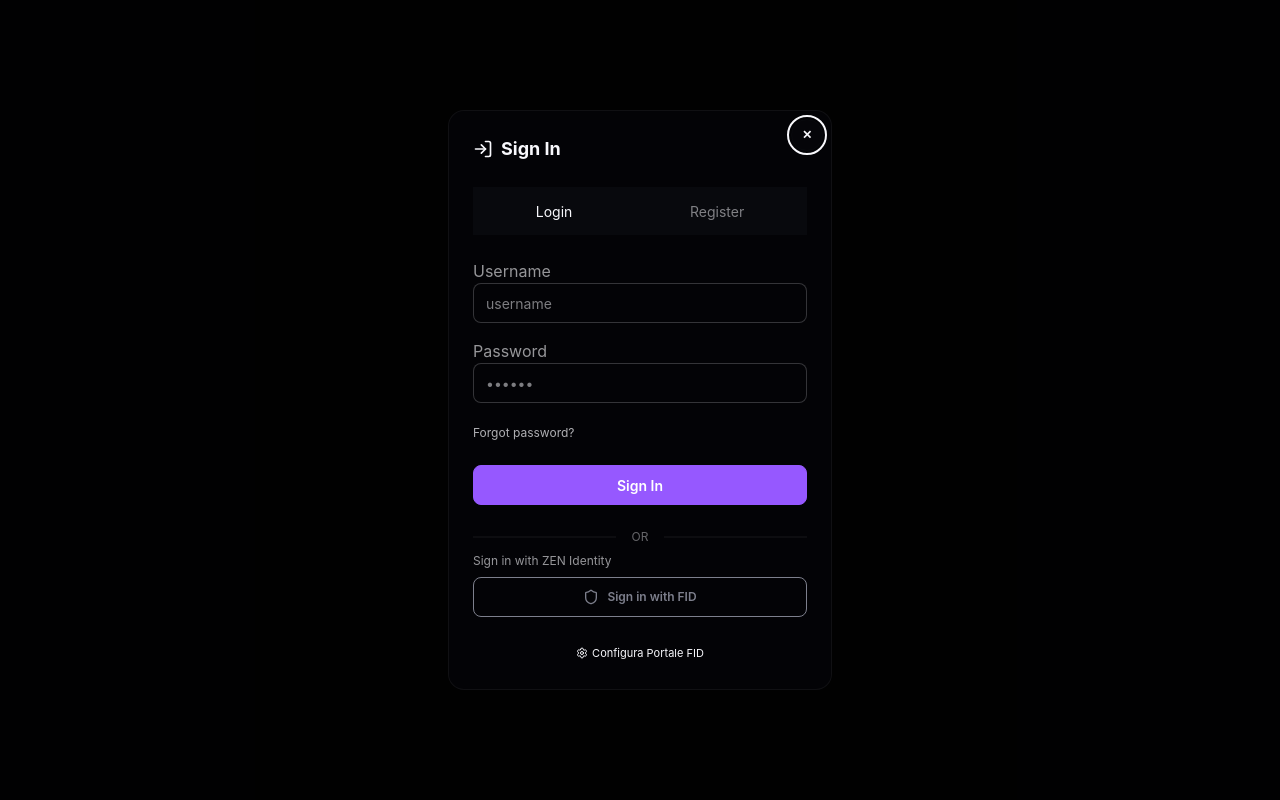
Test case: AuthModal › shows error when passwords do not match on register
The width and height of the screenshot is (1280, 800).
Expected: the field labelled "Username" is shown, [473,283,807,323]
Click the tab "Register": (717, 211) [631,191,803,231]
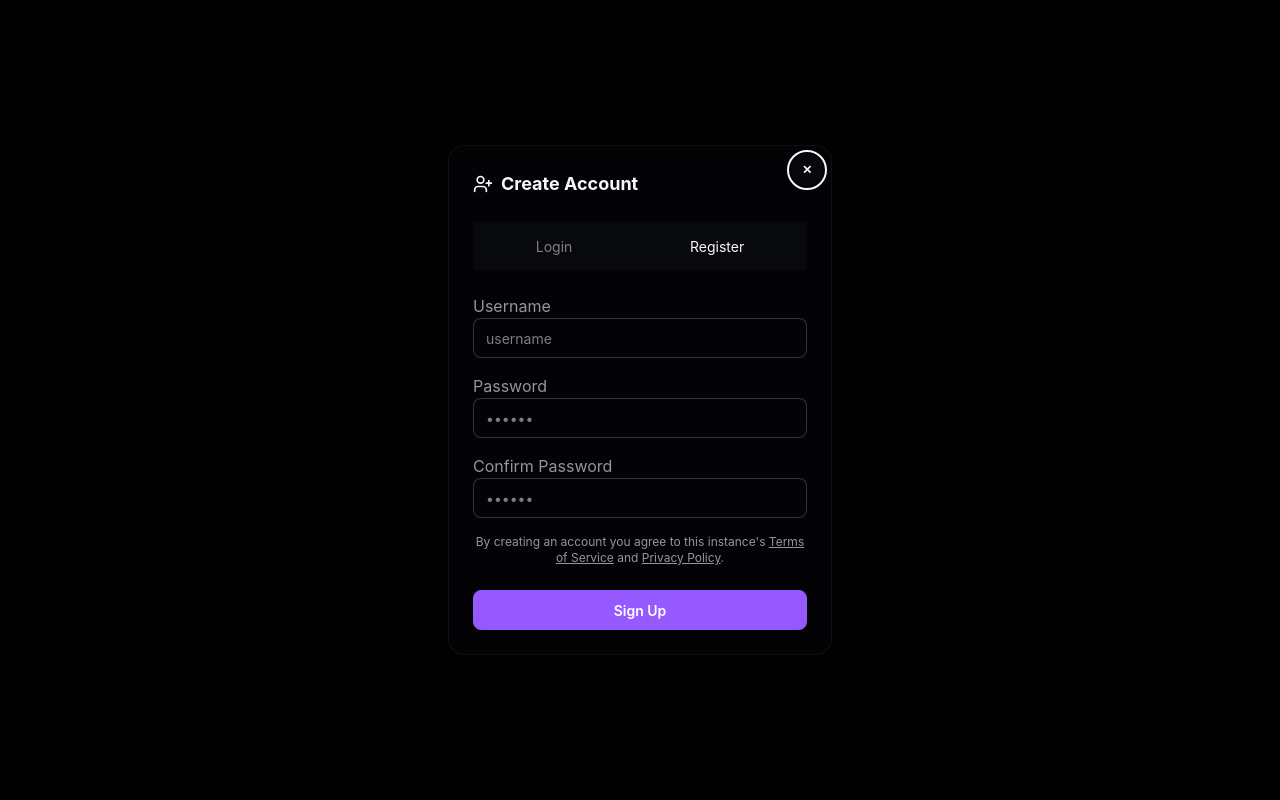
Now the button "Sign Up" is shown, box [473,590,807,630]
In the field labelled "Username": (640, 338) [473,318,807,358], type "newuser"
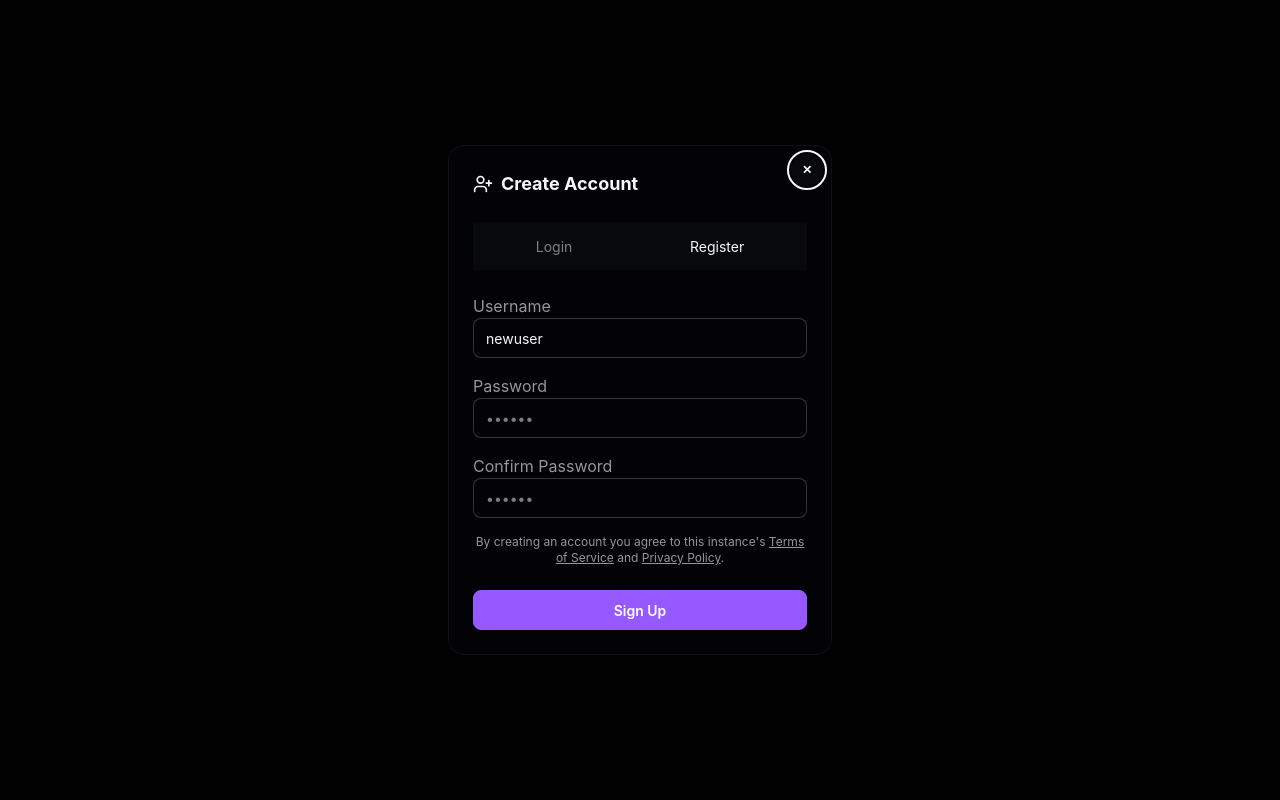
In the password field labelled "Password": (640, 418) [473,398,807,438], type "password123"
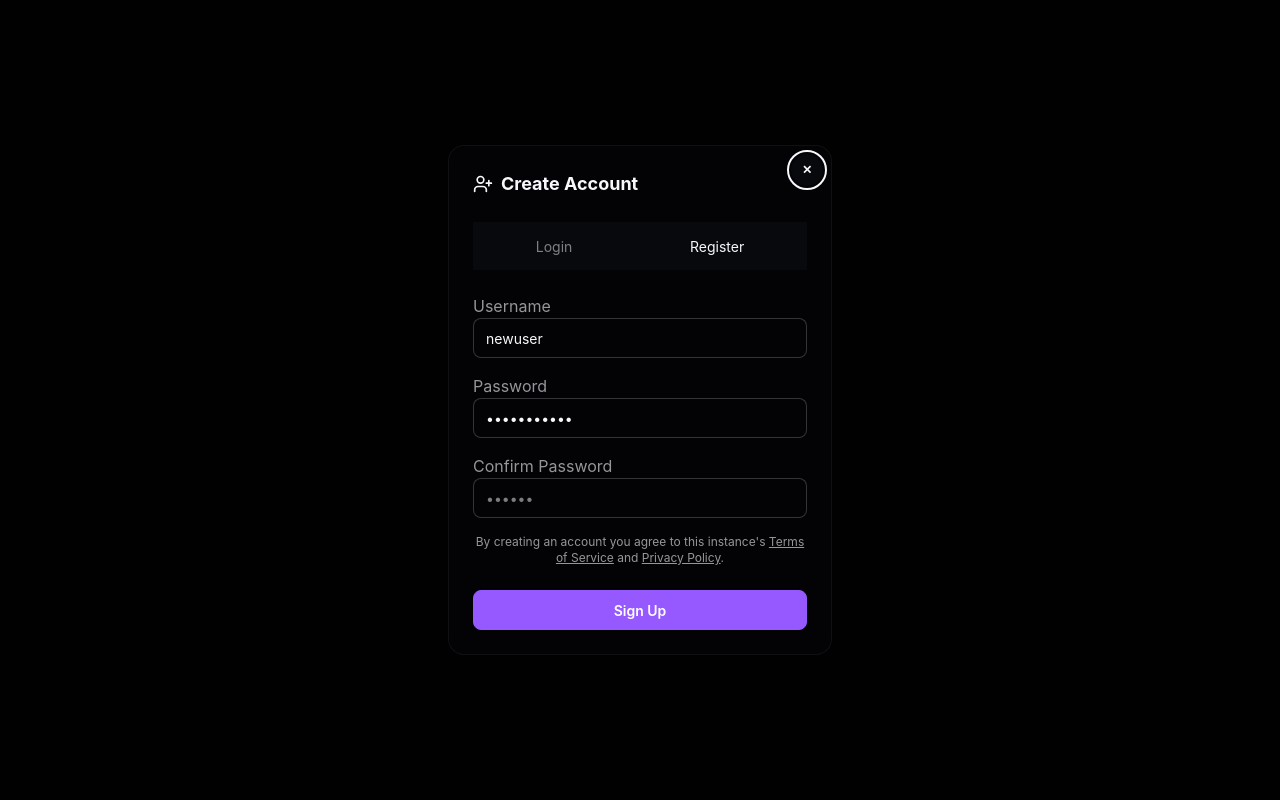
In the password field labelled "Confirm Password": (640, 498) [473,478,807,518], type "different"
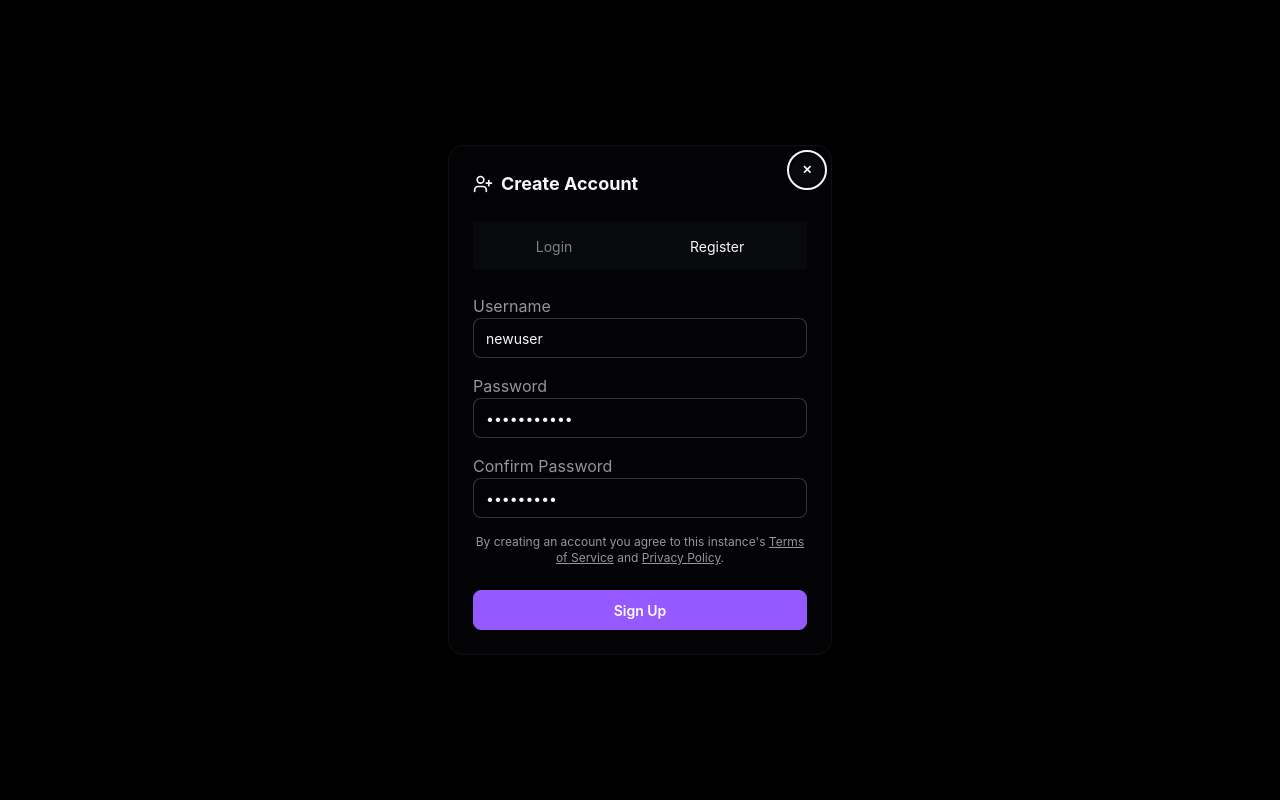
Click the button "Sign Up": (640, 610) [473,590,807,630]
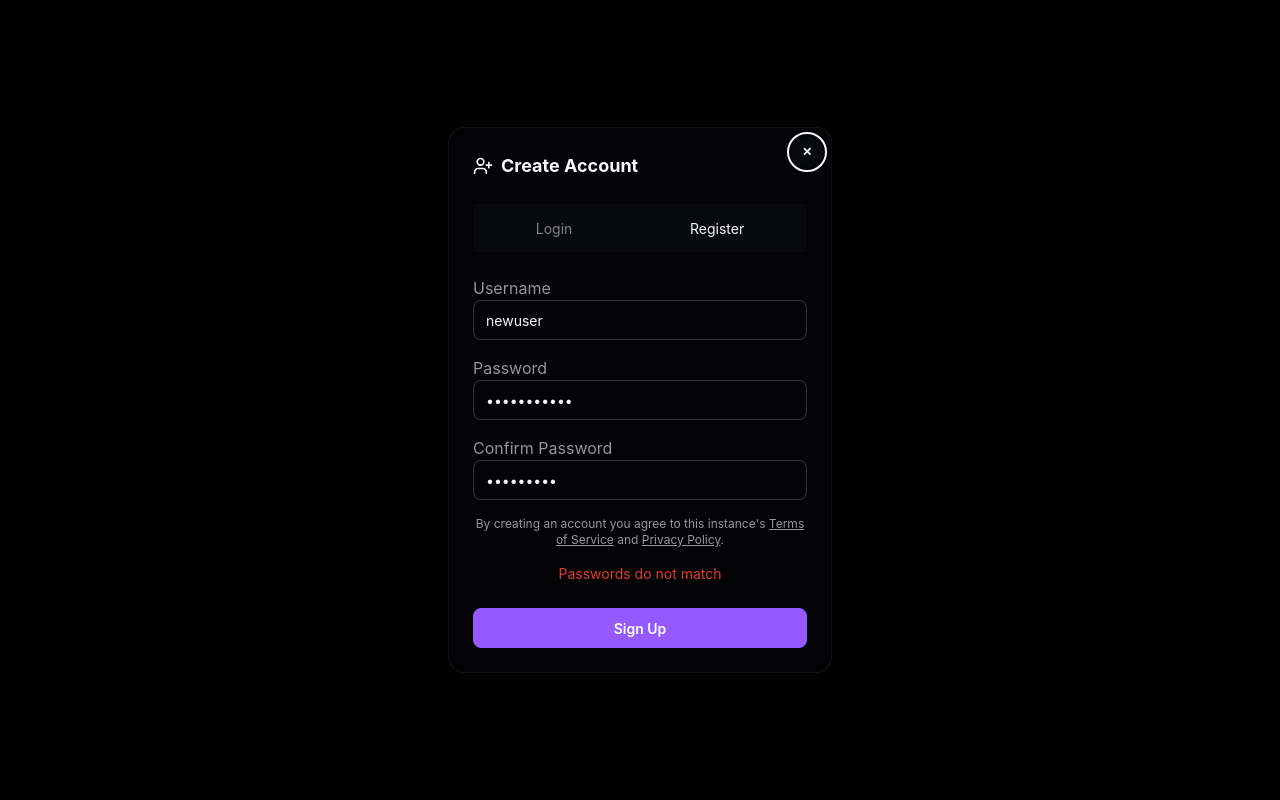
Now the text "Passwords do not match" is shown, box [558,565,722,582]
